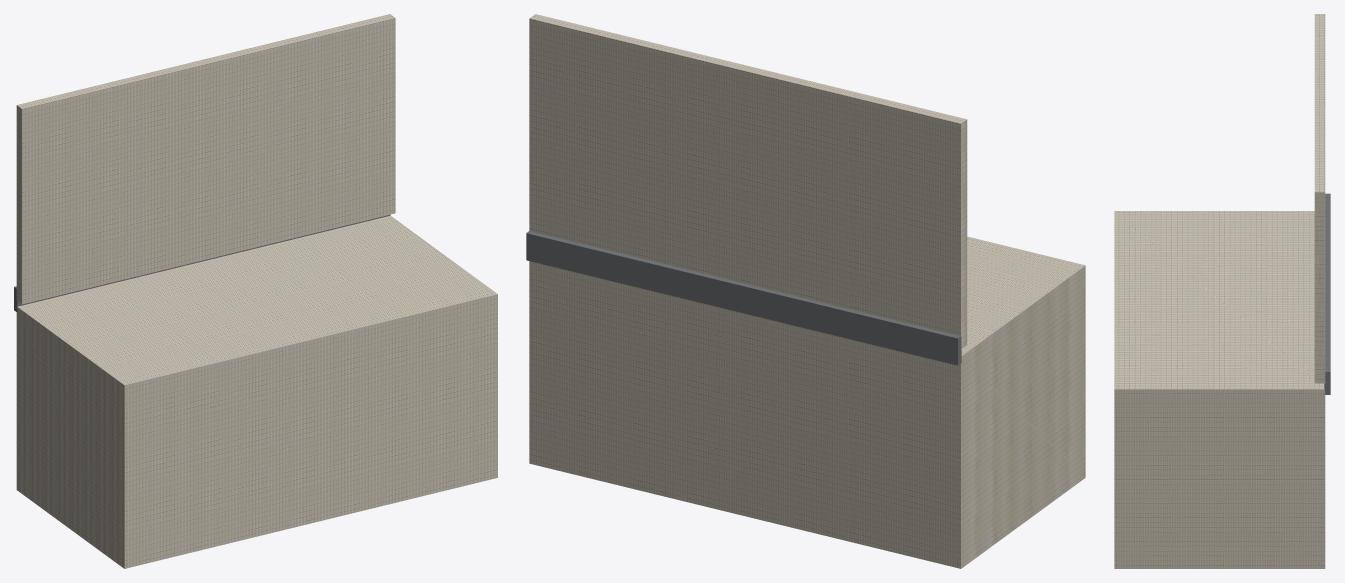
File: pool_edge.glb
3 views of the same model, side by side, from view 1: azimuth 30°, elevation 25°; view 2: azimuth 150°, elevation 25°; view 3: azimuth 270°, elevation 25° (orthographic). The views are drawn at different scales.
Visible parts, largest first — view 1: pool_edge; view 2: pool_edge; view 3: pool_edge.
Boxes of the visible parts, box(x1,y1,x2,y2) form: pool_edge: box(14, 14, 497, 568); pool_edge: box(526, 14, 1085, 568); pool_edge: box(1114, 14, 1330, 568).
Size of the model in its own units: 4 by 3.94 by 2.05.
3 materials, 1 textured.
